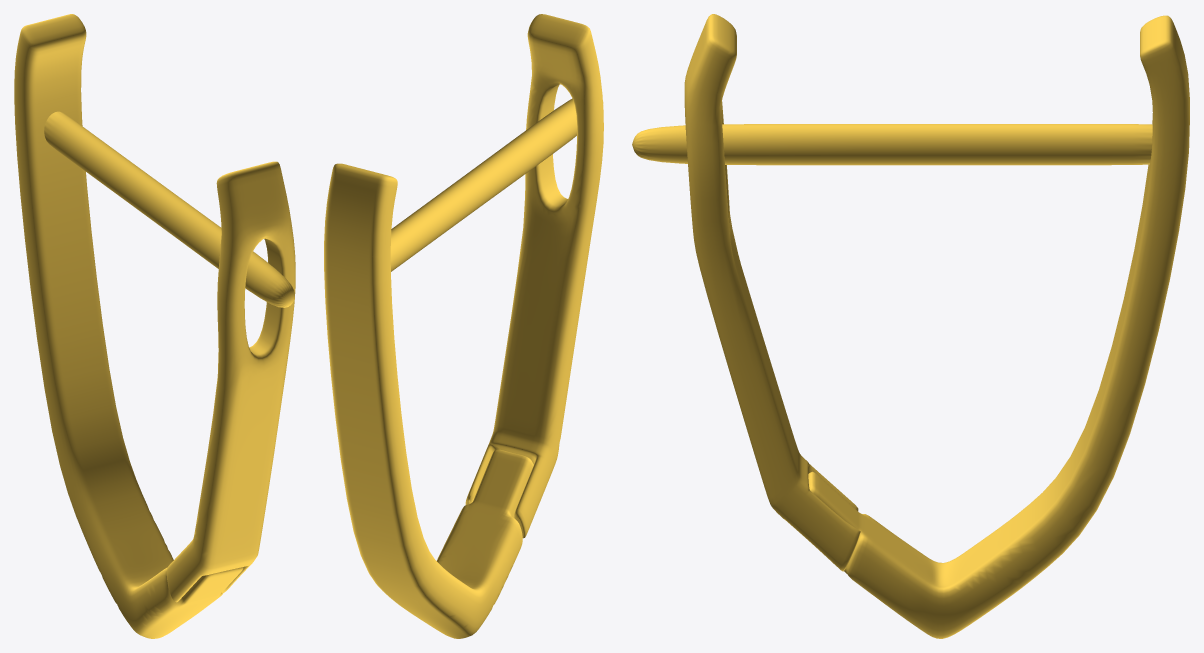
The model's file is earringsSimple_1.glb.
3 views of the same model, side by side, from view 1: azimuth 30°, elevation 25°; view 2: azimuth 150°, elevation 25°; view 3: azimuth 270°, elevation 25° (orthographic). The views are drawn at different scales.
Parts seen in each view (by area): view 1: Object_2; view 2: Object_2; view 3: Object_2.
Part boxes in pixels (box(x1,y1,x2,y2)): Object_2: box(14, 14, 295, 638); Object_2: box(324, 14, 603, 638); Object_2: box(632, 14, 1189, 638).
Bounding box in the file's own units: 0.00859 × 0.0637 × 0.0529.
